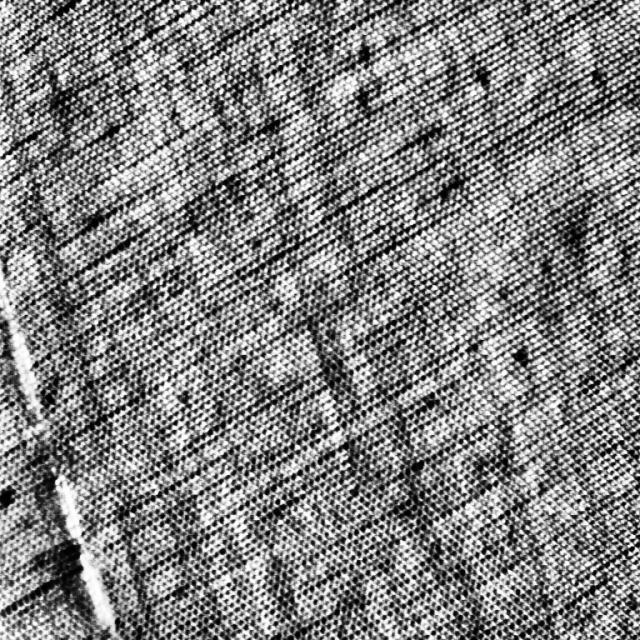gray stitch: (0, 256, 127, 635)
